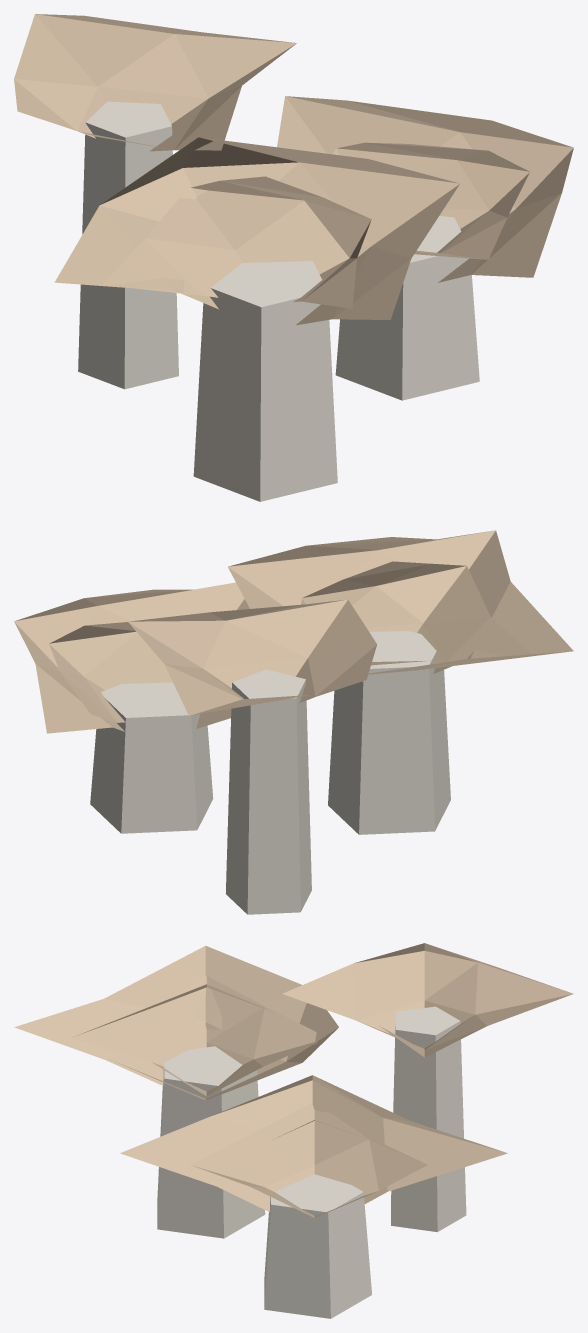
File: mushroom_v03.glb
3 renders of one model, top to bottom at view 1: azimuth 30°, elevation 25°; view 2: azimuth 150°, elevation 25°; view 3: azimuth 270°, elevation 25°, orthographic. The views are drawn at different scales.
Visible parts, largest first — view 1: lod0; view 2: lod0; view 3: lod0.
Boxes of the visible parts, x1=… form: lod0: x1=14, y1=14, x2=573, y2=501; lod0: x1=14, y1=530, x2=573, y2=914; lod0: x1=14, y1=943, x2=573, y2=1318.
Size of what is drawn, in the model's own units: 0.8413 by 0.4617 by 0.887.
